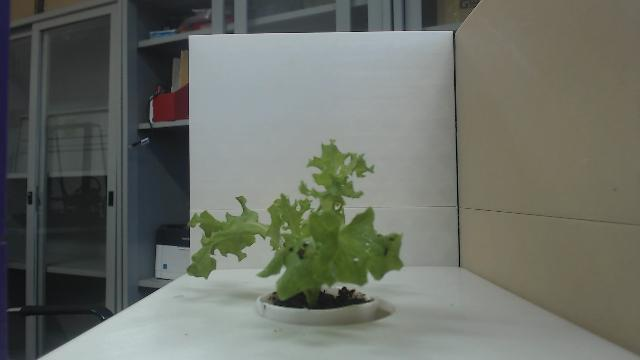Vegetative Stage: (184, 135, 408, 307)
